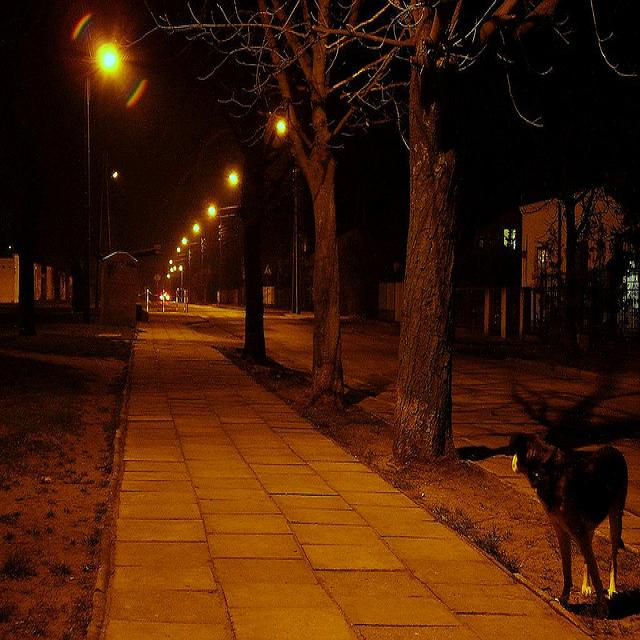Dog: (472, 435, 640, 610)
